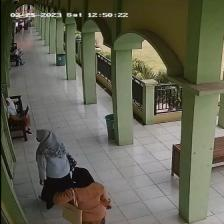Non Syar-i: (29, 127, 73, 157)
